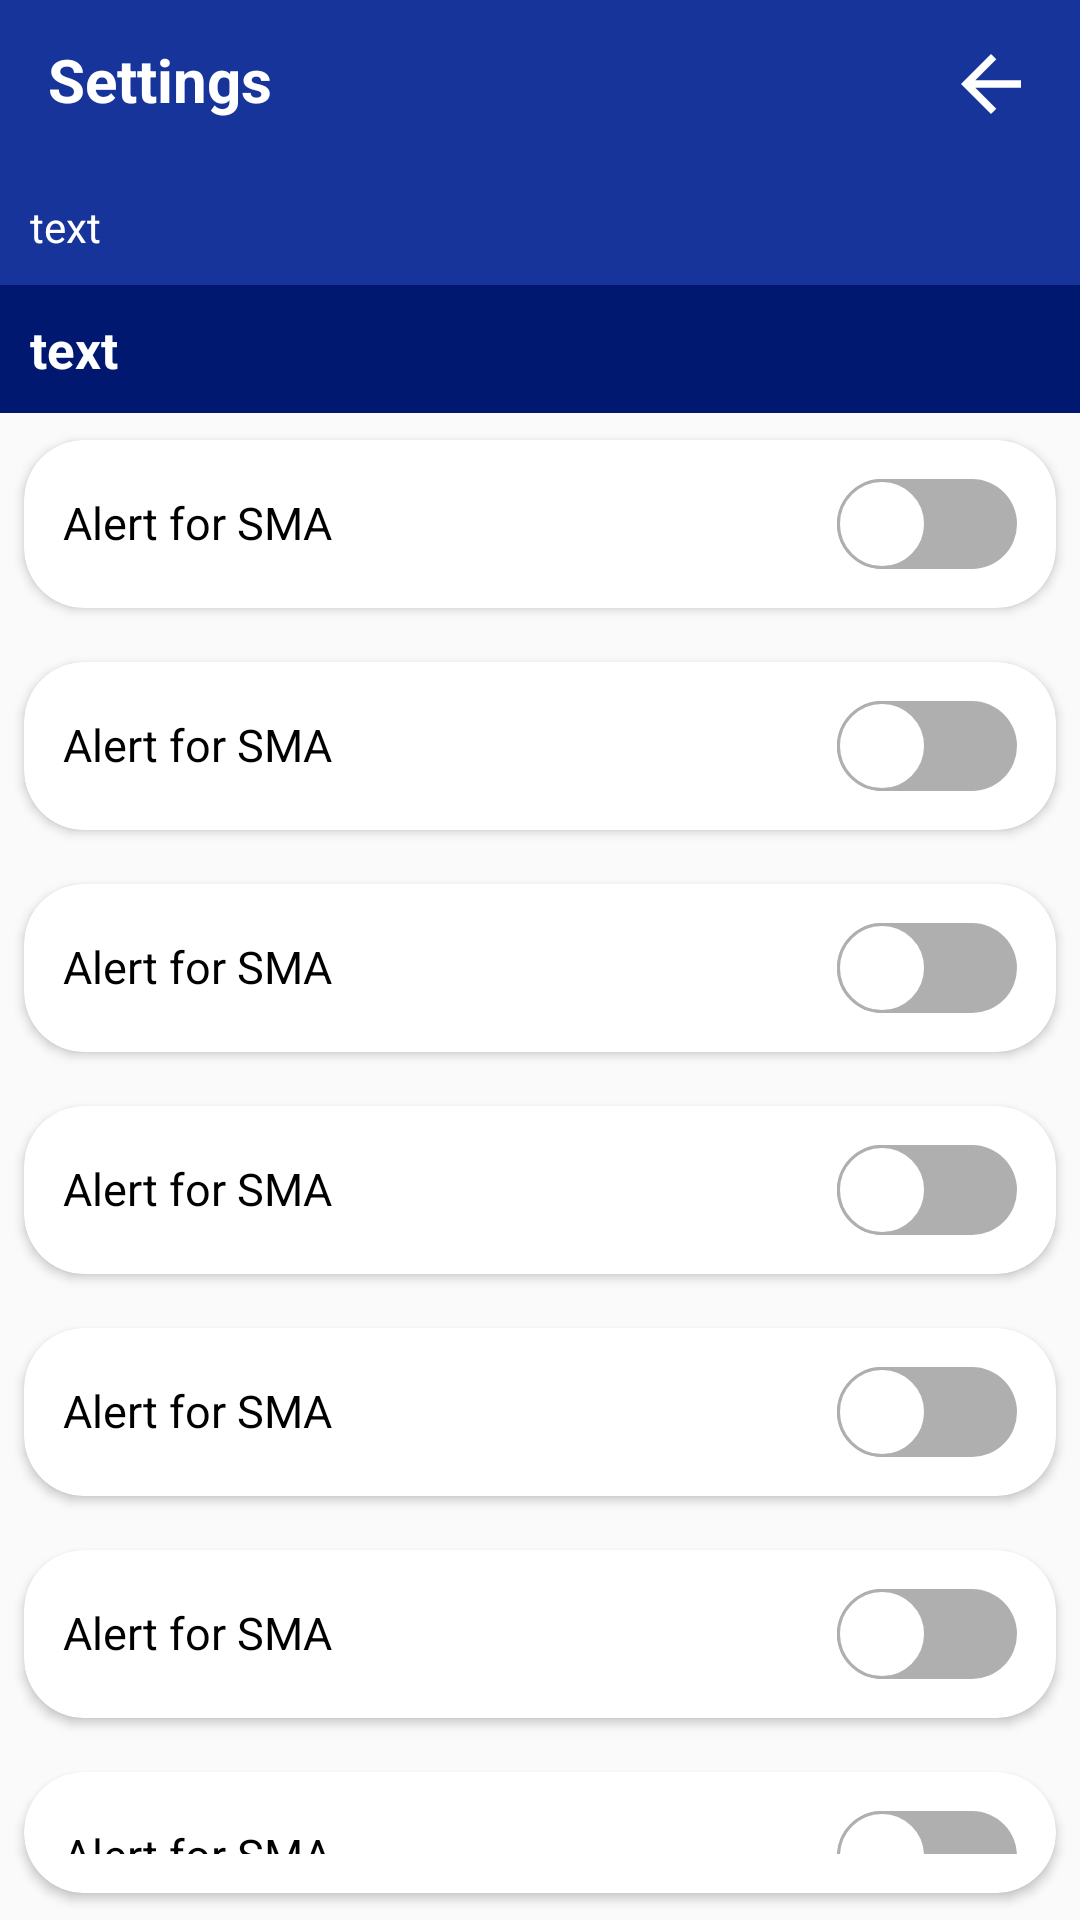

Locate icon controls on the screen. Image size 1080*1920, boxes as (x1, y1, x2, y2).
back arrow: (961, 54, 1021, 114)
